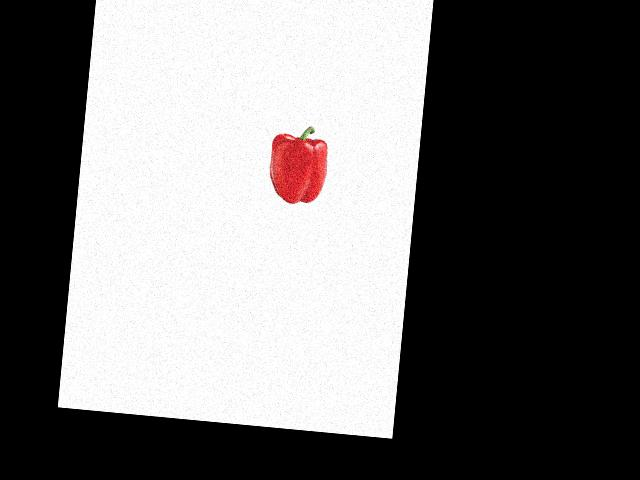bell_pepper: (262, 122, 333, 209)
